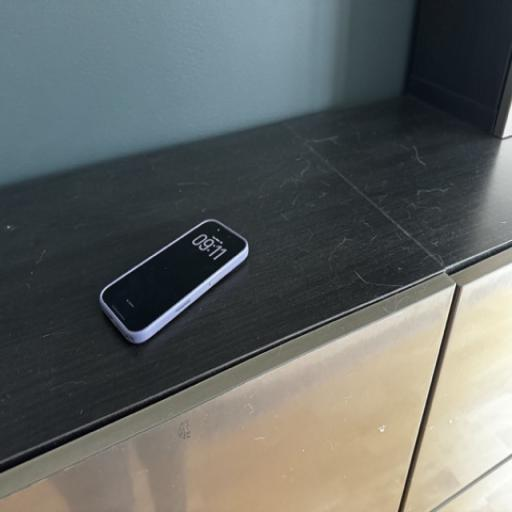phone: (107, 208, 259, 359)
